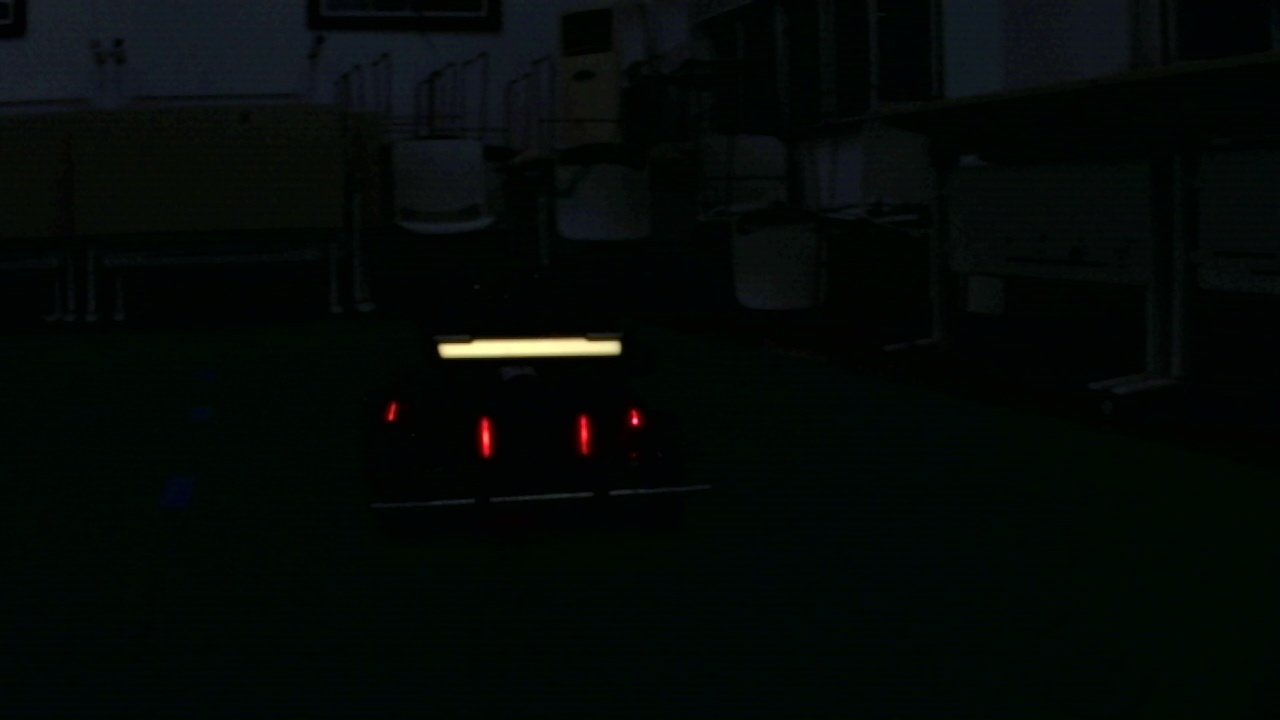lamp: (574, 409, 590, 454), (478, 410, 492, 453)
pair1: (478, 416, 593, 454)
